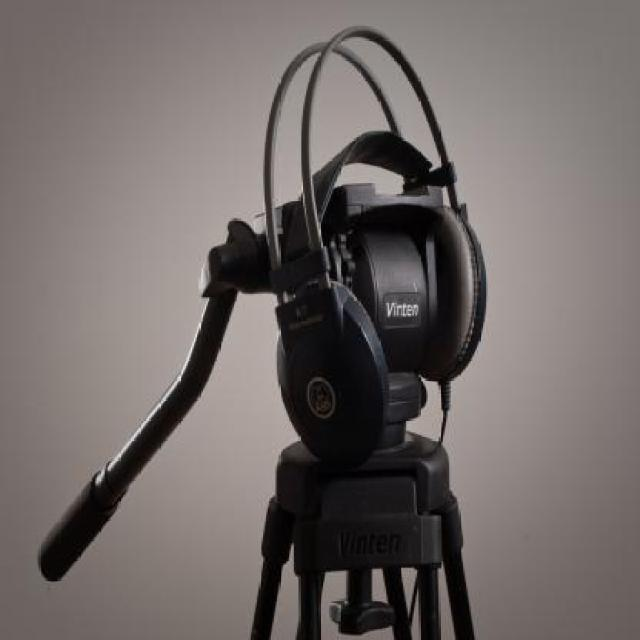earphone: (211, 0, 474, 436)
